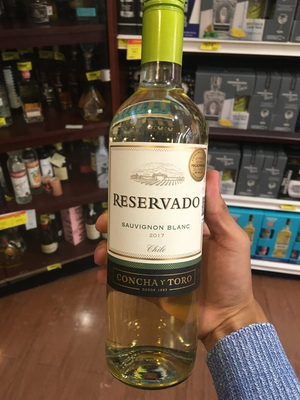reservado sauvignon blanc: (96, 19, 212, 371)
